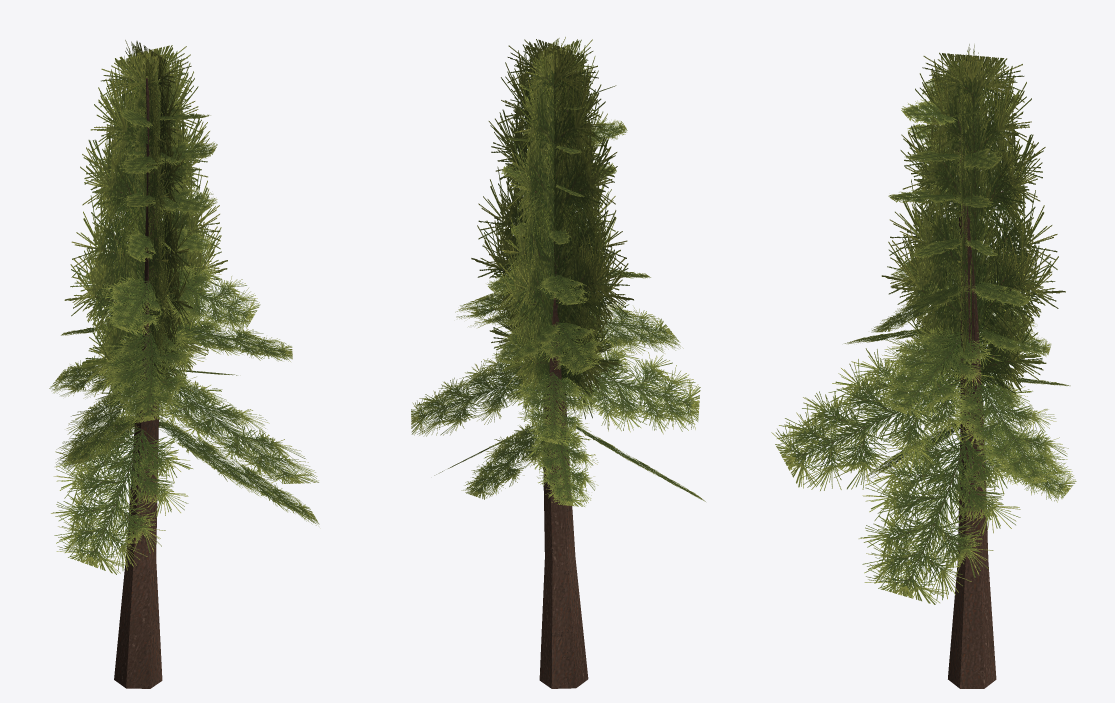
The model's file is pine_b_lod.glb.
The picture shows the model from 3 angles, left to right: view 1: azimuth 30°, elevation 25°; view 2: azimuth 150°, elevation 25°; view 3: azimuth 270°, elevation 25°; orthographic projection.
Parts seen in each view (by area): view 1: pine_b_lod_pine_needles_b, pine_b_lod_bark_pine; view 2: pine_b_lod_pine_needles_b, pine_b_lod_bark_pine; view 3: pine_b_lod_pine_needles_b, pine_b_lod_bark_pine.
Boxes of the visible parts, box(x1,y1,x2,y2) form: pine_b_lod_pine_needles_b: box(49, 40, 319, 574); pine_b_lod_bark_pine: box(114, 78, 162, 688); pine_b_lod_pine_needles_b: box(411, 37, 705, 506); pine_b_lod_bark_pine: box(539, 87, 588, 688); pine_b_lod_pine_needles_b: box(771, 44, 1076, 604); pine_b_lod_bark_pine: box(948, 96, 996, 688).
Bounding box in the file's own units: 8.8 × 16.97 × 8.6.
Materials: 2 (2 with a texture image).
